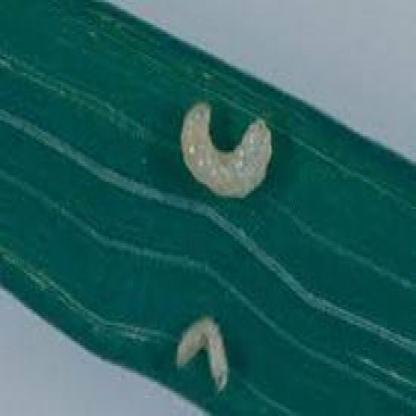whorl-maggot: (171, 94, 276, 207), (168, 300, 238, 394)
